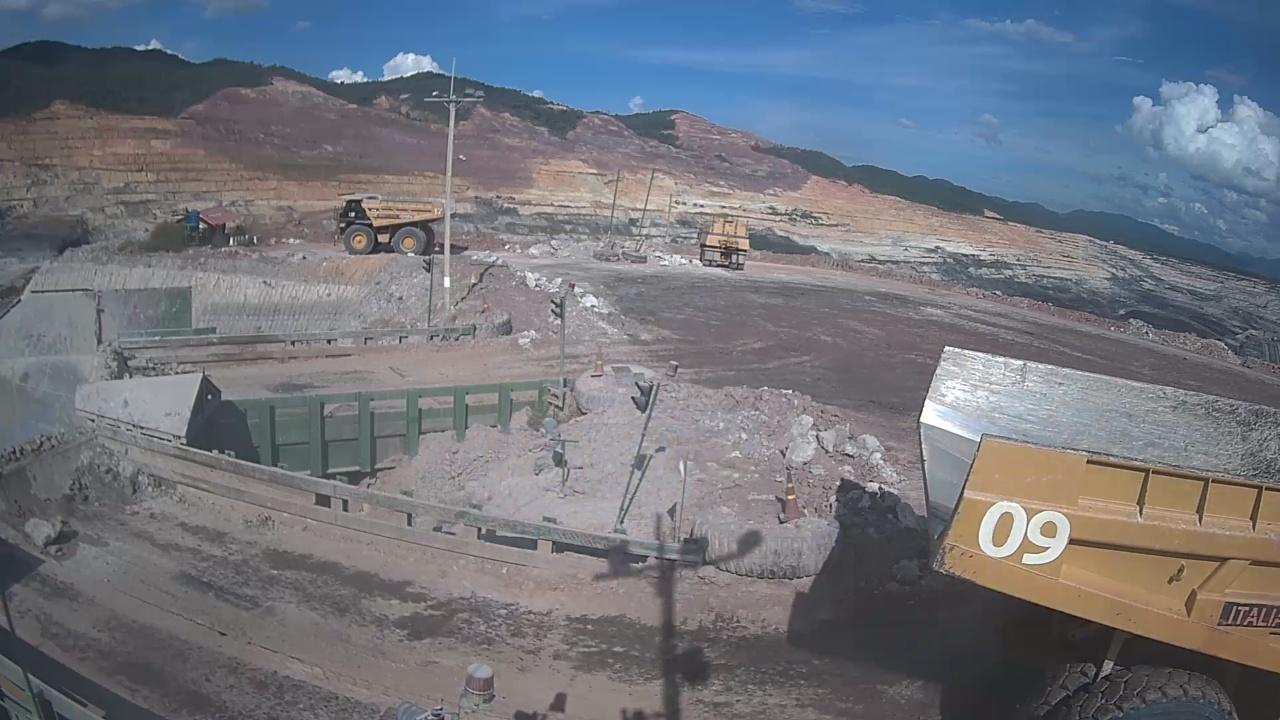empty_load: (919, 358, 1280, 502)
mining_truck: (894, 318, 1280, 720), (332, 191, 456, 256)
tail_number: (974, 498, 1072, 579)
